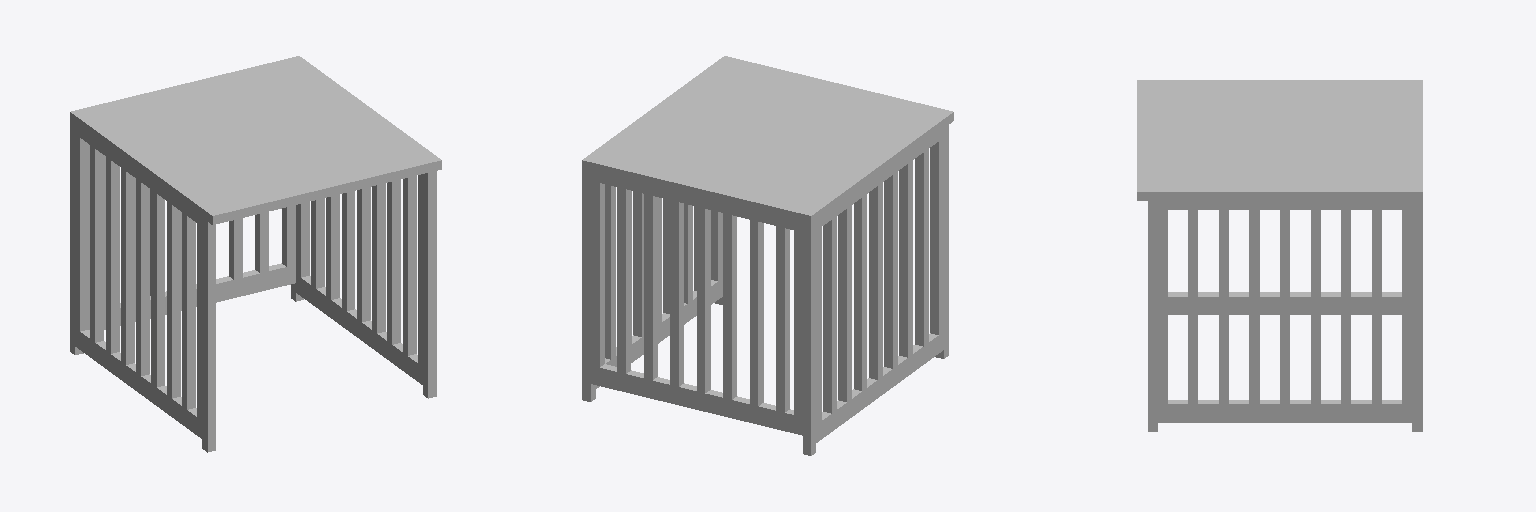
Rendered from Cage.obj.
The picture shows the model from 3 angles: view 1: azimuth 30°, elevation 25°; view 2: azimuth 150°, elevation 25°; view 3: azimuth 270°, elevation 25°; orthographic projection.
Parts seen in each view (by area): view 1: object 1; view 2: object 1; view 3: object 1.
Part boxes in pixels (bbox=[...]): object 1: bbox=[70, 56, 441, 452]; object 1: bbox=[582, 56, 953, 455]; object 1: bbox=[1137, 80, 1422, 431].
Bounding box in the file's own units: 2.6 × 2.6 × 2.8.